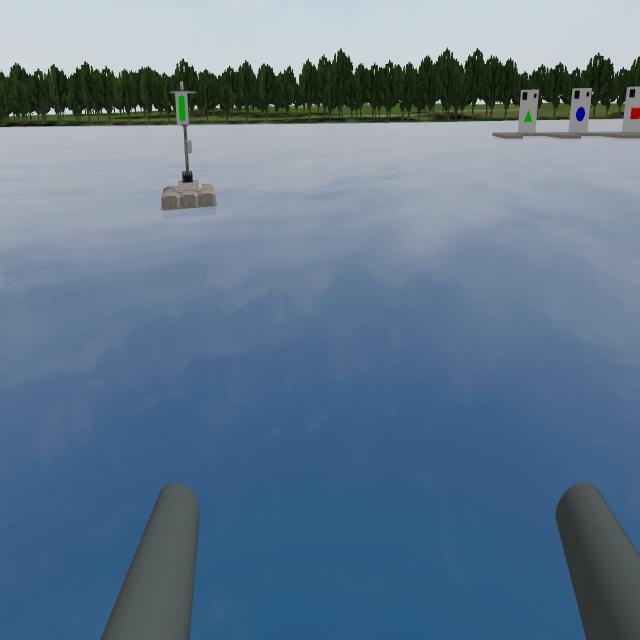green_pole: (170, 79, 196, 135)
